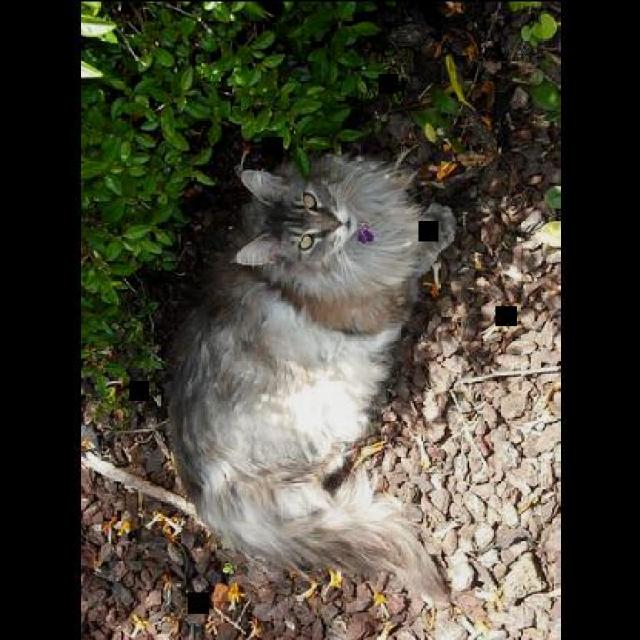unauthorized: (161, 146, 457, 608)
